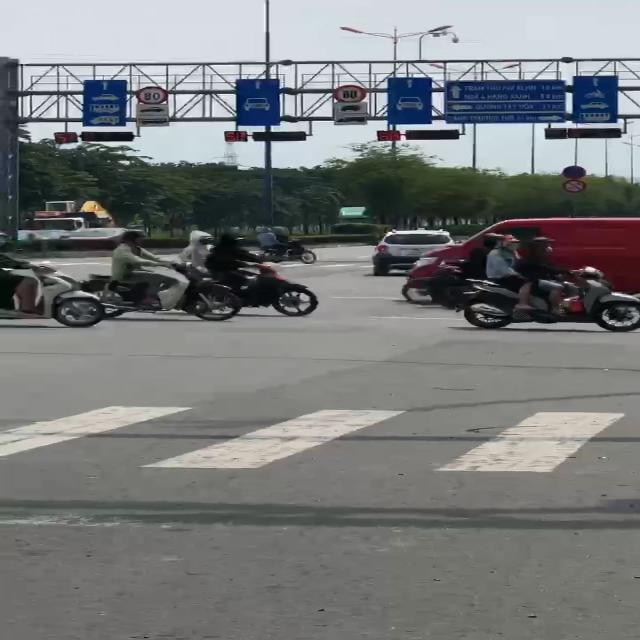Bien bao toc do toi da cho phep: (132, 82, 173, 106), (331, 85, 370, 105)
